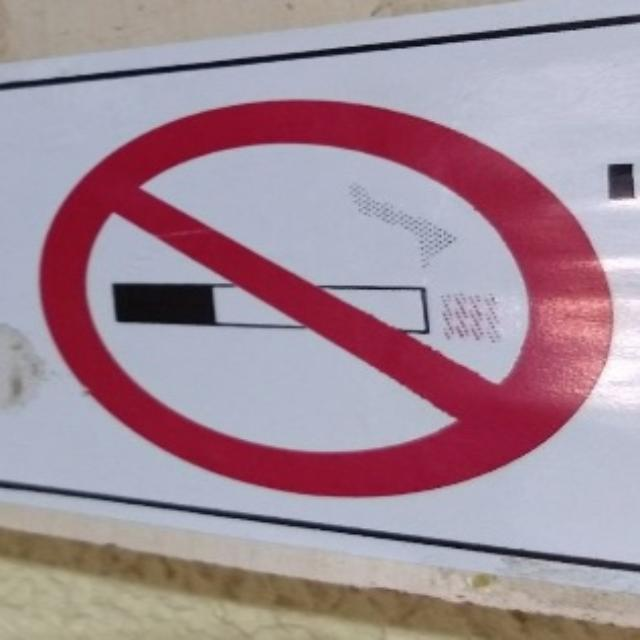cam hut thuoc: (41, 103, 610, 494)
